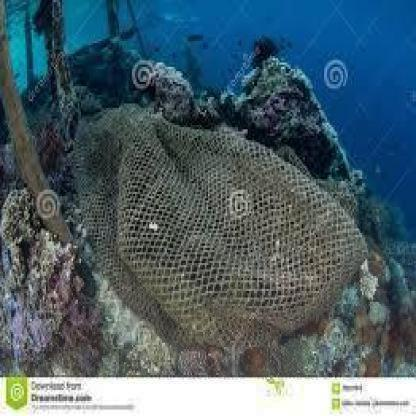net: (78, 114, 366, 343)
